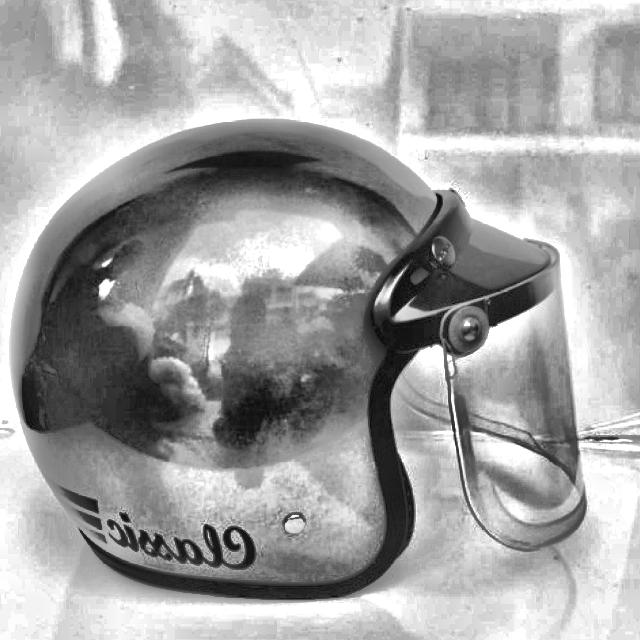Helmet: (0, 107, 587, 627)
